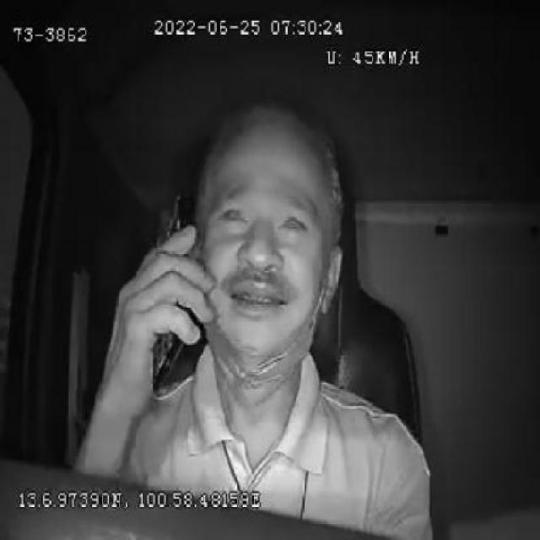phone: (146, 190, 196, 386)
